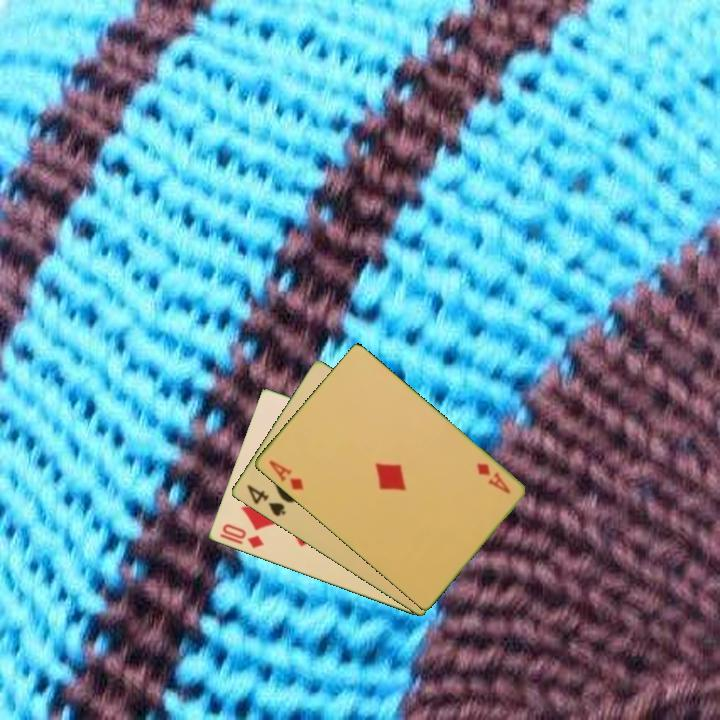10d: (216, 520, 267, 552)
4s: (243, 481, 288, 519)
Ad: (472, 459, 513, 497), (265, 456, 306, 493)
